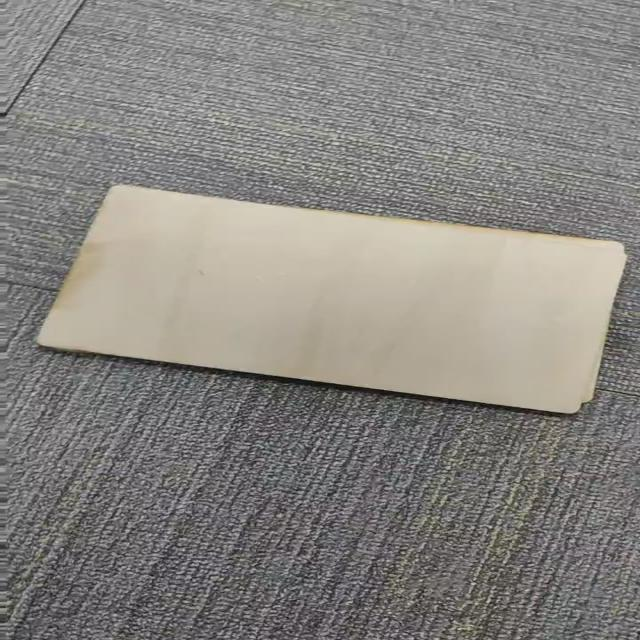carton: (37, 186, 625, 414)
